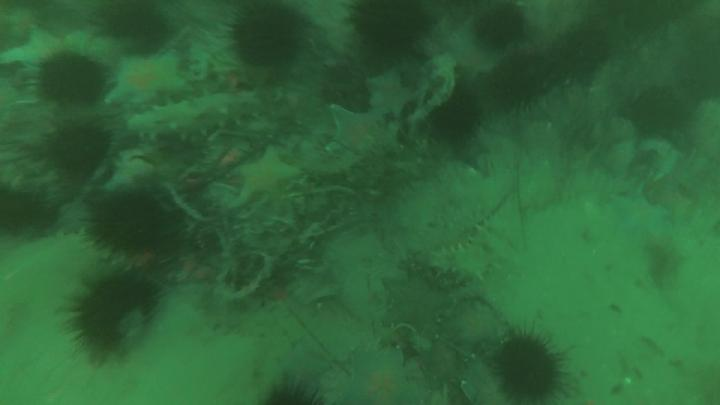echinus: (74, 275, 155, 354), (500, 337, 560, 405), (95, 194, 162, 254), (236, 6, 303, 64), (358, 2, 434, 42), (491, 59, 549, 111), (41, 57, 103, 102), (431, 92, 482, 143), (4, 192, 58, 240), (50, 127, 108, 170), (102, 5, 165, 38), (480, 8, 529, 46)
holothurian: (440, 196, 528, 279), (129, 95, 260, 137)
starfish: (337, 352, 427, 405), (110, 56, 186, 104), (235, 150, 300, 205), (327, 105, 394, 158), (617, 196, 669, 234), (367, 72, 412, 110)
